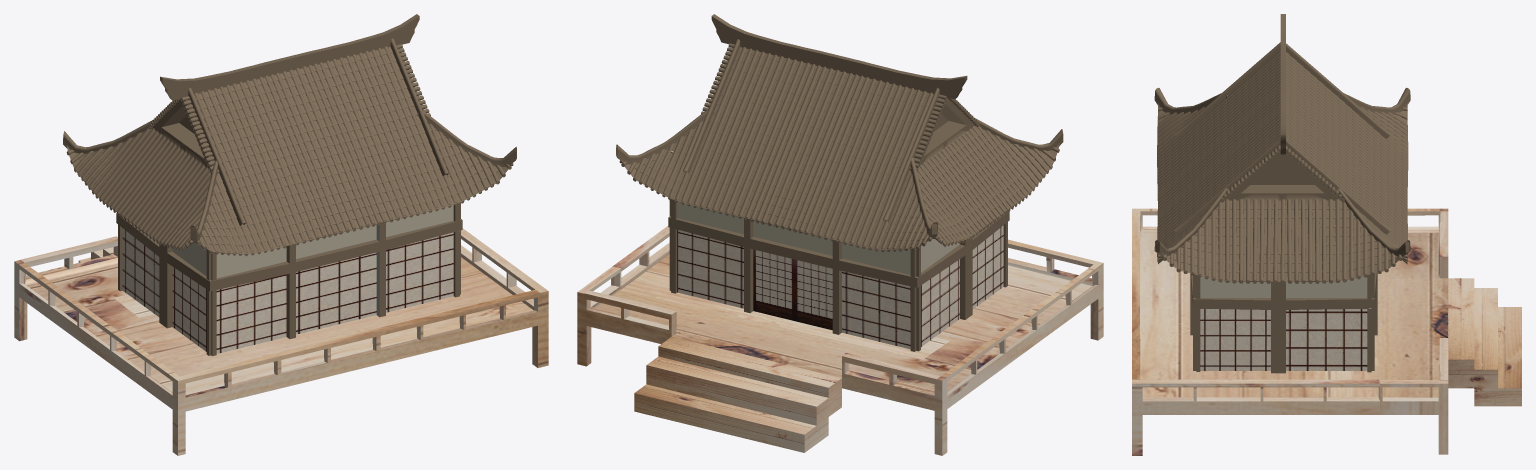
Rendered from FinalHouse.fbx.
3 renders of one model, left to right at view 1: azimuth 30°, elevation 25°; view 2: azimuth 150°, elevation 25°; view 3: azimuth 270°, elevation 25°, orthographic. The views are drawn at different scales.
Parts seen in each view (by area): view 1: polySurface78, polySurface6, polySurface8; view 2: polySurface78, polySurface6, polySurface8, polySurface7; view 3: polySurface78, polySurface6, polySurface8, polySurface7.
Boxes of the visible parts, x1,y1,x2,y2 form: polySurface78: (63,14,516,256); polySurface6: (14,228,548,455); polySurface8: (116,202,462,356); polySurface78: (616,14,1063,252); polySurface6: (577,226,1103,455); polySurface8: (668,151,1009,351); polySurface7: (634,336,841,452); polySurface78: (1154,14,1410,283); polySurface6: (1132,208,1448,455); polySurface8: (1190,272,1377,373); polySurface7: (1448,278,1521,406).
Size of the model in its own units: 21.56 by 17.09 by 20.3.
Materials: 12 (8 with a texture image).
